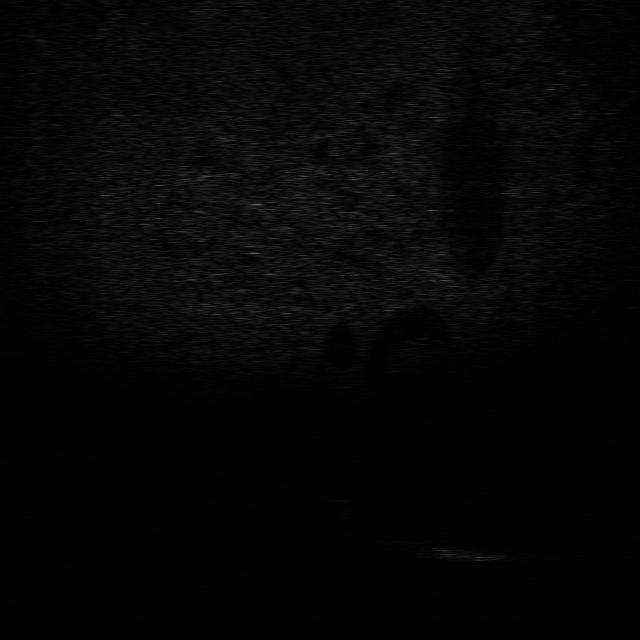ball: (317, 478, 363, 504)
metal bucket: (410, 536, 515, 568)
tyre: (371, 516, 444, 547)
